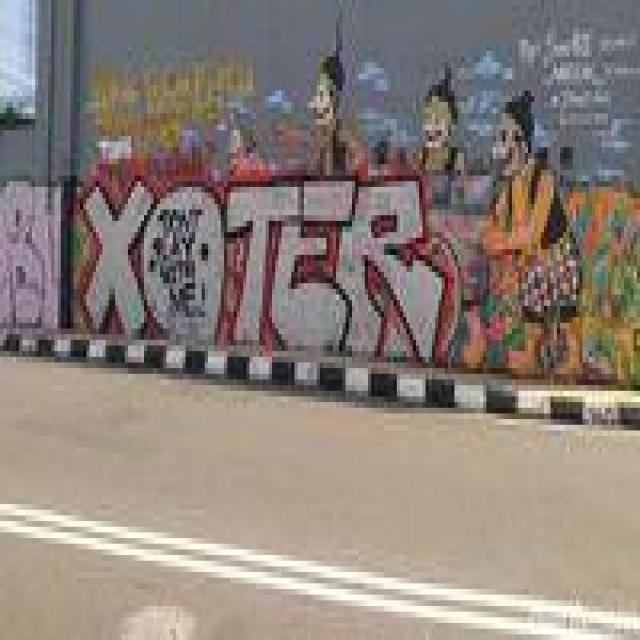nonspitting: (76, 170, 446, 367), (0, 175, 58, 323)
spitting: (481, 85, 584, 372), (307, 40, 358, 166), (413, 62, 464, 171)
